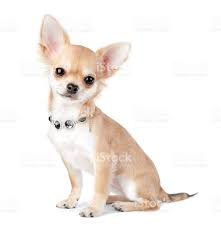chihuahua: (37, 13, 193, 215)
